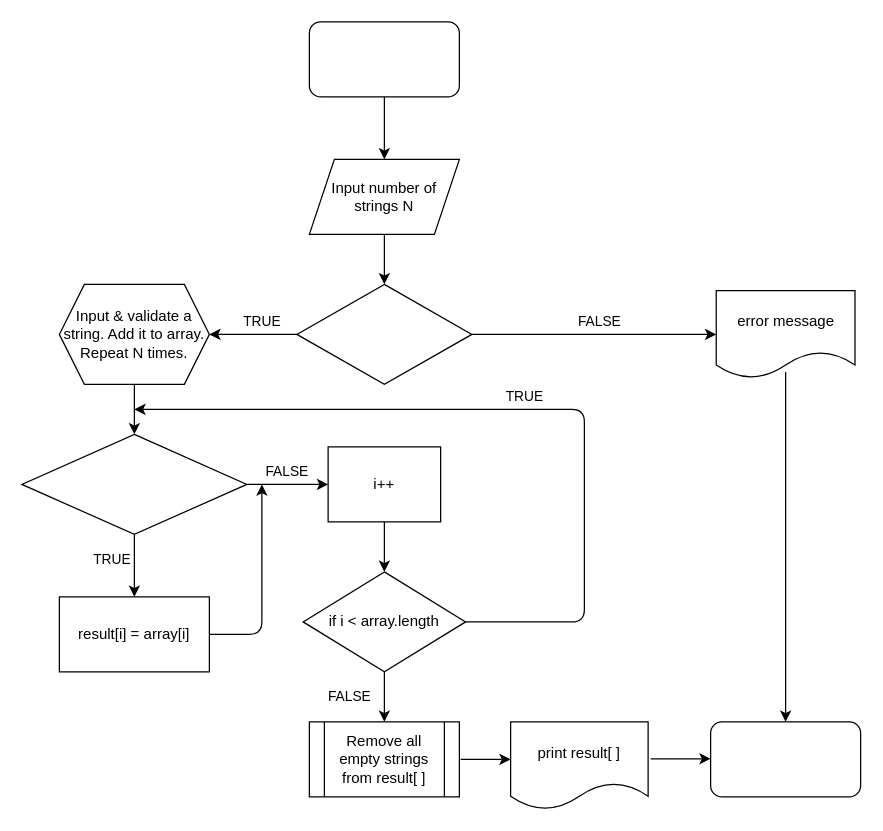
Image size: 883x831. Some labels were removed from this diagram. Here are the shapes that lost their labels. From the top down, the centre of each, then its label:
At point (383, 59): "Start".
At point (384, 333): "Valid input".
At point (134, 483): "array[i].length <= 3".
At point (785, 759): "Finish".
